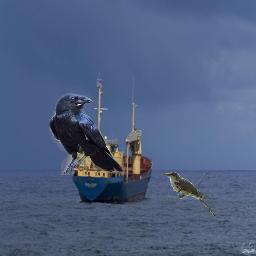Crow: (49, 93, 125, 175)
Cuckoo: (164, 172, 215, 216)
